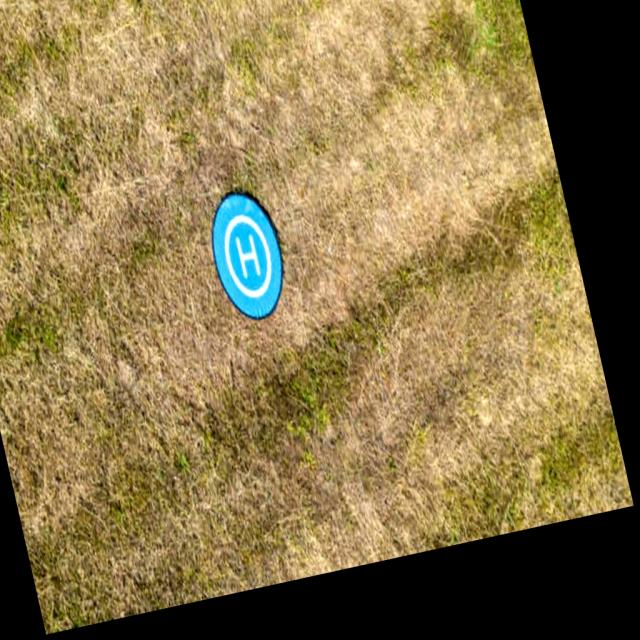helipad: (220, 212, 274, 299)
